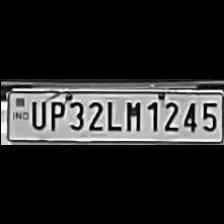1: (142, 98, 160, 132)
2: (84, 98, 104, 132), (159, 99, 179, 133)
3: (65, 97, 83, 131)
4: (179, 98, 197, 132)
5: (198, 98, 218, 132)
L: (103, 98, 121, 132)
M: (122, 98, 142, 132)
P: (44, 96, 64, 132)
U: (26, 96, 44, 130)
